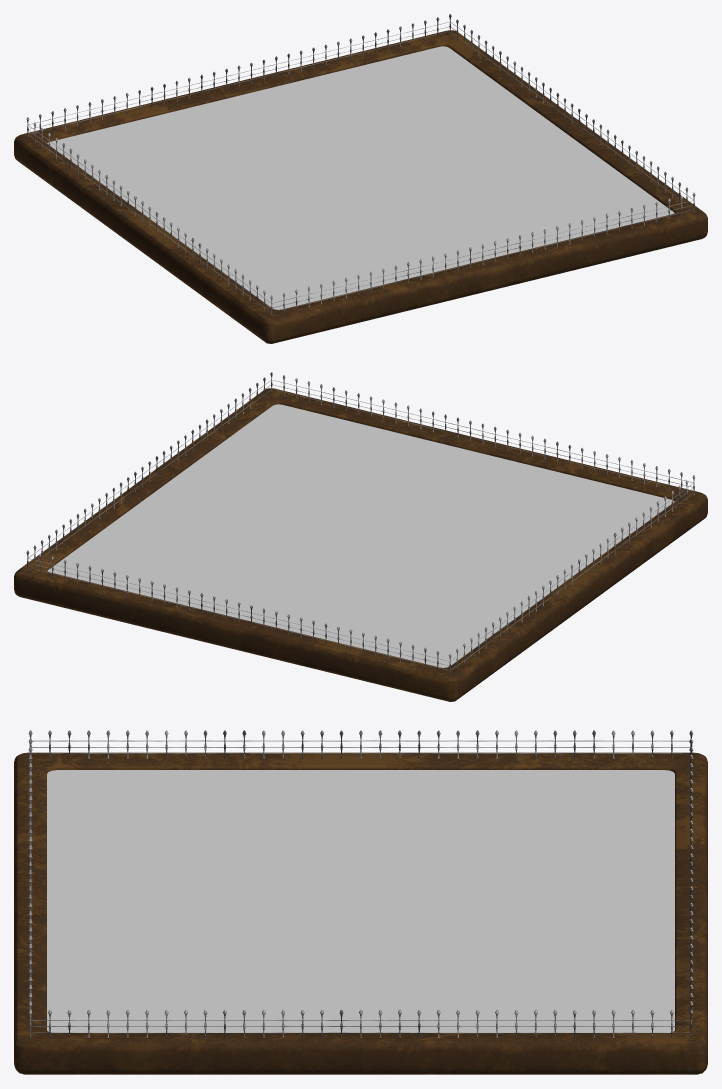
Rendered from CourtChessboard.fbx.
The picture shows the model from 3 angles, top to bottom: view 1: azimuth 30°, elevation 25°; view 2: azimuth 150°, elevation 25°; view 3: azimuth 270°, elevation 25°; orthographic projection. The views are drawn at different scales.
Visible parts, largest first — view 1: Chessboard, WhiteCells2, BlackCells2, BlackCells1, WhiteCells1, Railing; view 2: Chessboard, BlackCells1, WhiteCells1, WhiteCells2, BlackCells2, Railing; view 3: Chessboard, WhiteCells1, BlackCells2, BlackCells1, WhiteCells2, Railing.
Boxes of the visible parts, x1=… form: Chessboard: x1=14, y1=30, x2=707, y2=343; WhiteCells2: x1=47, y1=57, x2=560, y2=215; BlackCells2: x1=75, y1=46, x2=532, y2=227; BlackCells1: x1=191, y1=130, x2=648, y2=309; WhiteCells1: x1=162, y1=142, x2=674, y2=299; Railing: x1=26, y1=14, x2=695, y2=315; Chessboard: x1=14, y1=388, x2=707, y2=701; BlackCells1: x1=161, y1=415, x2=674, y2=573; WhiteCells1: x1=189, y1=404, x2=646, y2=585; WhiteCells2: x1=73, y1=488, x2=530, y2=667; BlackCells2: x1=47, y1=500, x2=559, y2=657; Railing: x1=26, y1=372, x2=695, y2=673; Chessboard: x1=14, y1=752, x2=707, y2=1074; WhiteCells1: x1=47, y1=770, x2=360, y2=1032; BlackCells2: x1=361, y1=770, x2=674, y2=1032; BlackCells1: x1=47, y1=770, x2=360, y2=1032; WhiteCells2: x1=361, y1=770, x2=674, y2=1032; Railing: x1=28, y1=730, x2=693, y2=1037.
Size of the model in its own units: 220 by 21.46 by 220.
